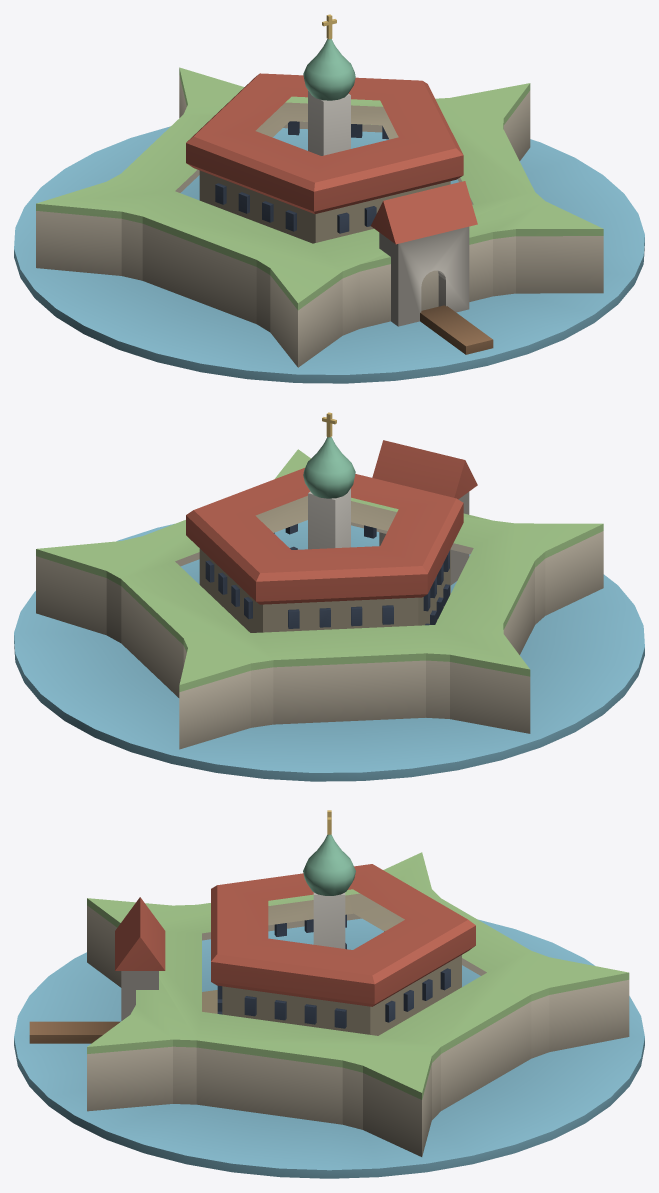
Rendered from oradea.glb.
3 renders of one model, top to bottom at view 1: azimuth 30°, elevation 25°; view 2: azimuth 150°, elevation 25°; view 3: azimuth 270°, elevation 25°, orthographic.
Visible parts, largest first — view 1: oradea_water, oradea_grass, oradea_stone, oradea_roofRed, oradea_cream, oradea_stoneLight, oradea_plaster, oradea_domeGreen, oradea_wood, oradea_window; view 2: oradea_water, oradea_stone, oradea_grass, oradea_roofRed, oradea_cream, oradea_window, oradea_plaster, oradea_domeGreen, oradea_stoneLight; view 3: oradea_water, oradea_stone, oradea_grass, oradea_roofRed, oradea_cream, oradea_window, oradea_domeGreen, oradea_wood, oradea_plaster, oradea_stoneLight.
Part boxes in pixels (x1,y1,x2,y2): oradea_water: (14,126,644,383); oradea_grass: (36,67,603,310); oradea_stone: (36,75,603,367); oradea_roofRed: (186,73,477,244); oradea_cream: (199,102,450,243); oradea_stoneLight: (379,226,469,326); oradea_plaster: (308,90,350,155); oradea_domeGreen: (303,39,355,100); oradea_wood: (420,305,493,354); oradea_window: (215,121,388,233); oradea_water: (14,520,644,781); oradea_stone: (36,522,603,749); oradea_grass: (36,449,603,692); oradea_roofRed: (186,440,477,604); oradea_cream: (199,495,450,632); oradea_window: (205,524,449,628); oradea_plaster: (308,488,350,549); oradea_domeGreen: (303,437,355,498); oradea_stoneLight: (379,492,469,585); oradea_water: (14,918,644,1178); oradea_stone: (87,905,629,1156); oradea_grass: (87,852,629,1099); oradea_roofRed: (115,864,475,1006); oradea_cream: (222,893,461,1035); oradea_window: (217,914,450,1028); oradea_domeGreen: (303,834,355,895); oradea_wood: (29,1021,120,1043); oradea_plaster: (313,892,345,948); oradea_stoneLight: (121,971,158,1020).
Size of the model in its own units: 2 by 0.82 by 2.
